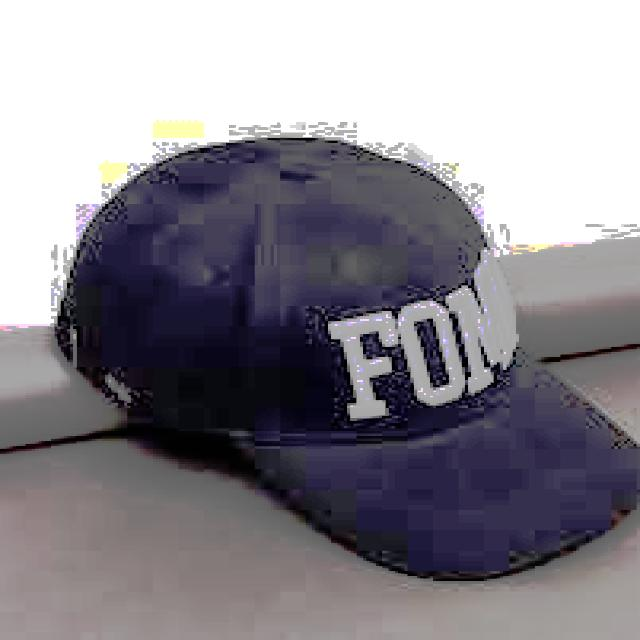TOPI: (44, 125, 636, 581)
